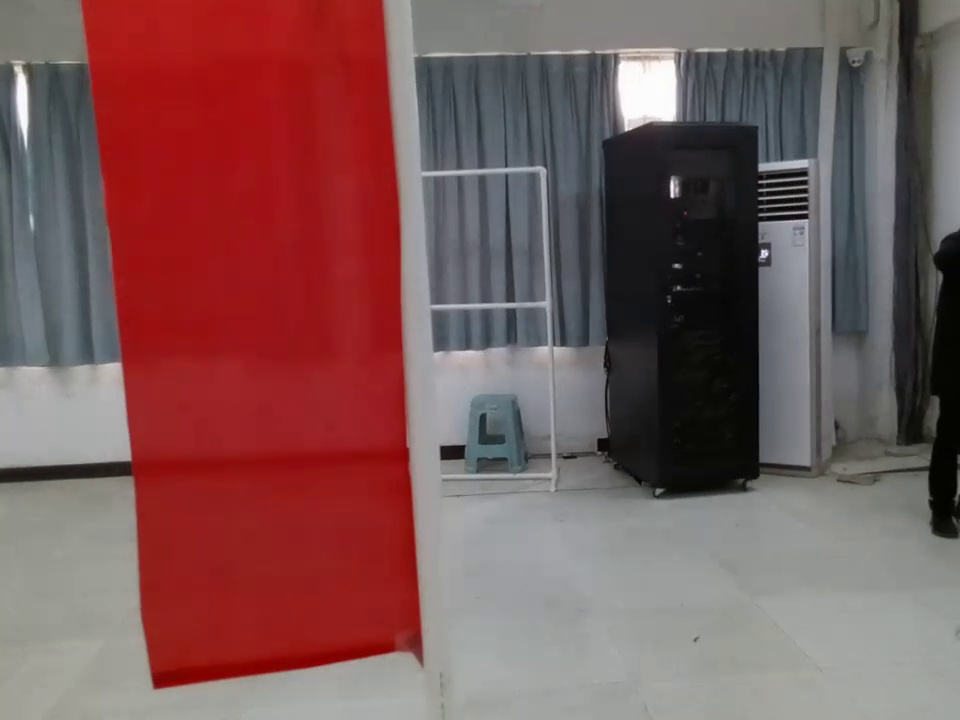qi: (80, 1, 460, 702)
